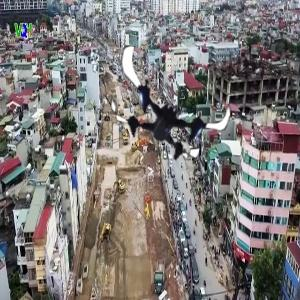drone: (108, 50, 235, 177)
